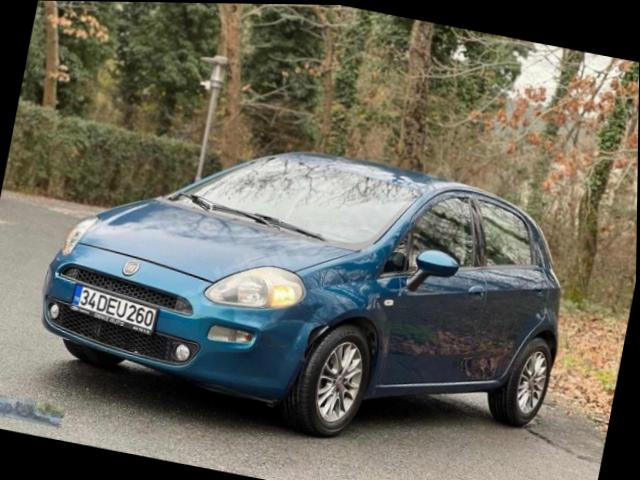plaka: (71, 285, 156, 332)
